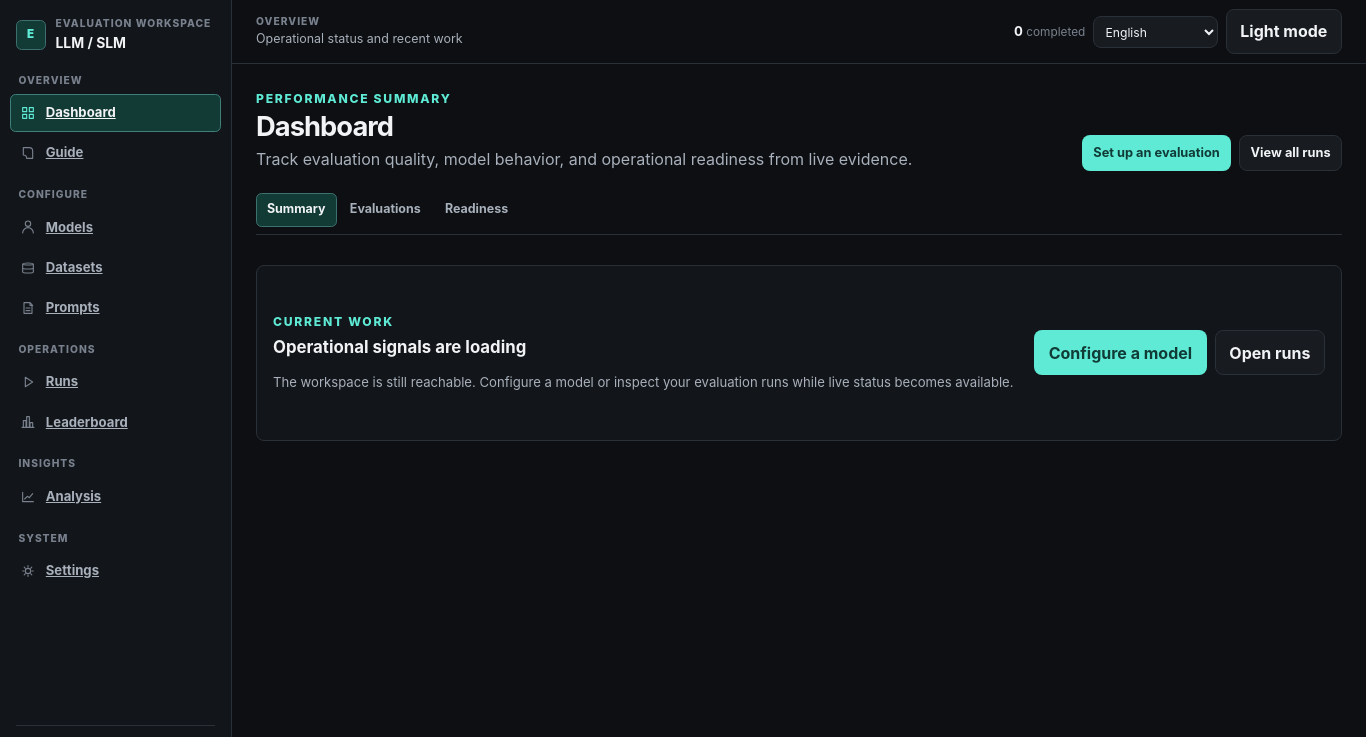
Test: usage guide › opens the guide from navigation and routes workflow steps to their workspace
Click the link "Guide" at [52, 153], box [20,144,83,161]
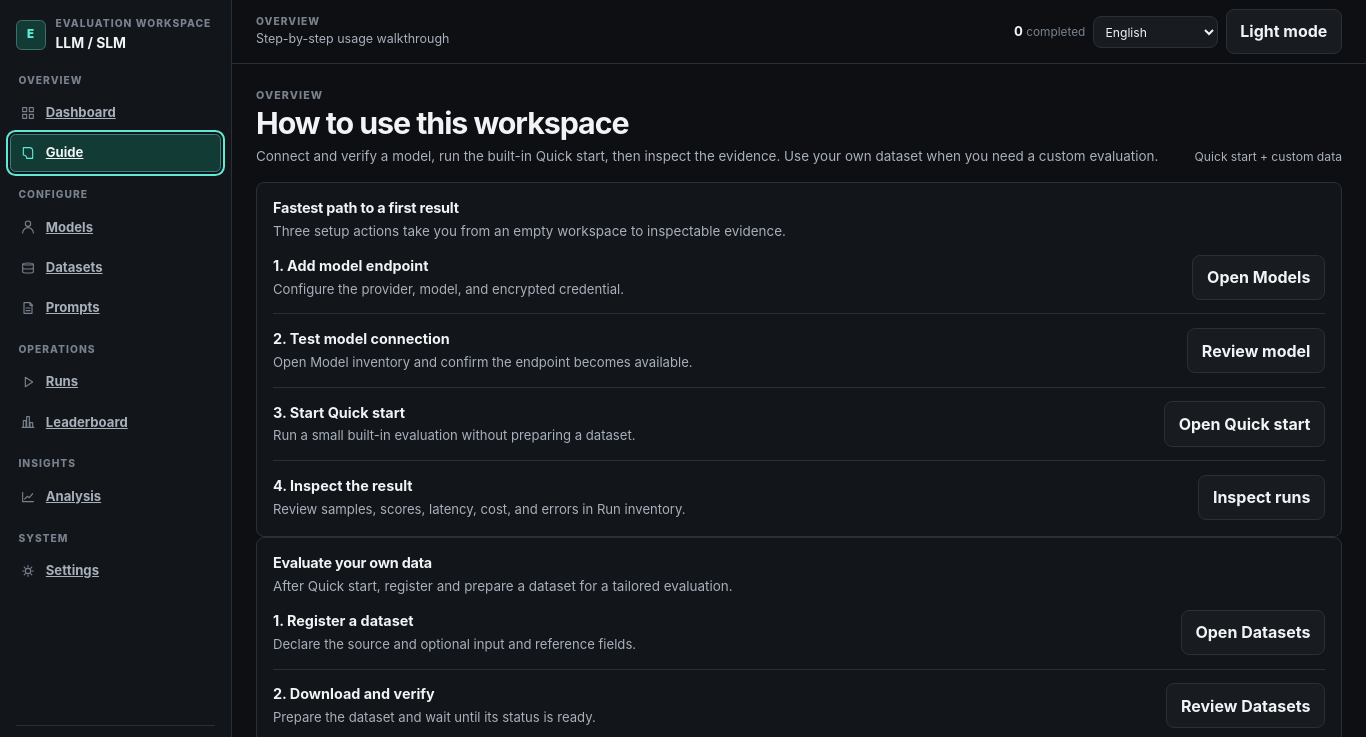
Result: the heading "How to use this workspace" is shown at [256,105,628,141]
Result: the heading "1. Add model endpoint" is shown at [273,257,428,274]
Click the button "Open Models" at [1259, 277], box [1192,255,1325,300]
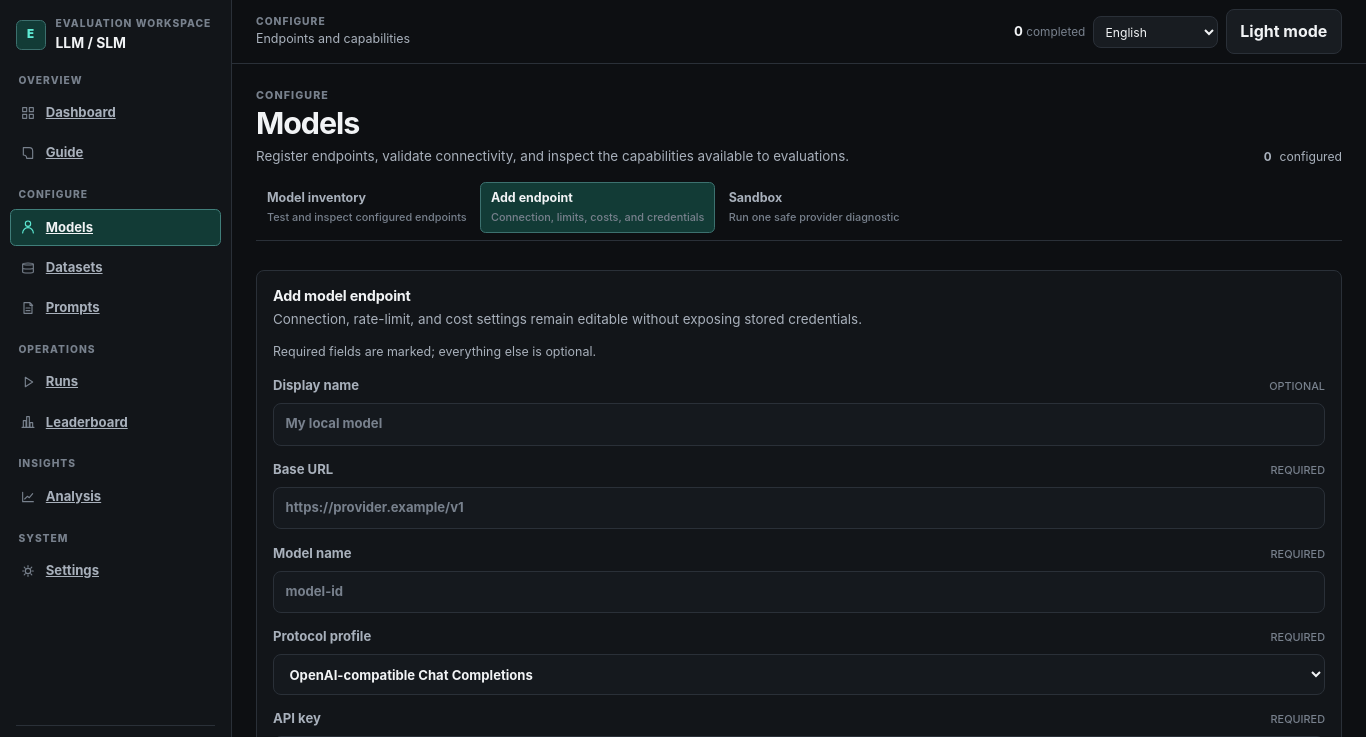
Result: the field labelled "Base URL" is shown at [273,487,1325,529]
